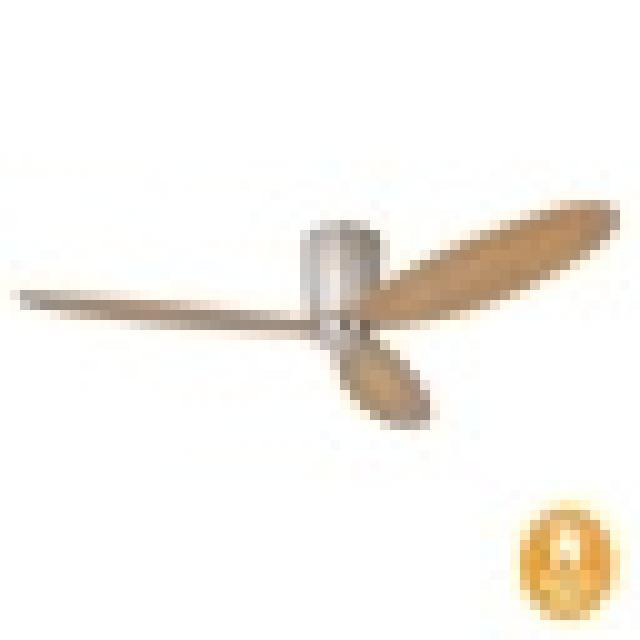fan_off: (34, 206, 619, 427)
